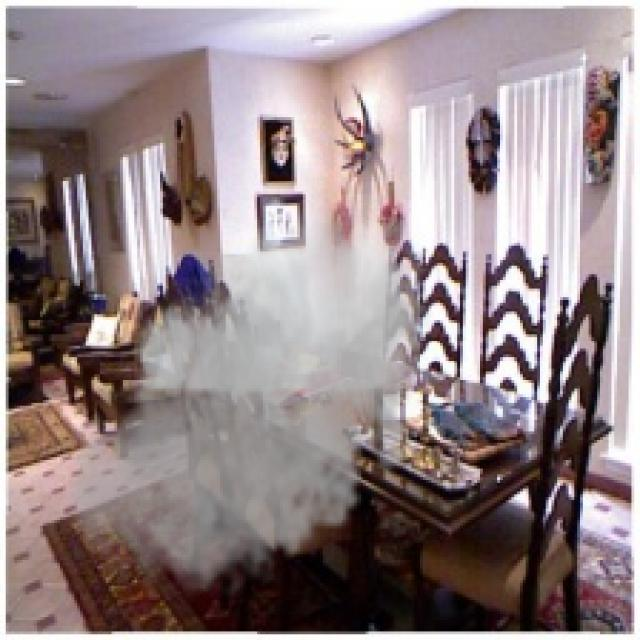Smoke: (62, 194, 434, 609)
